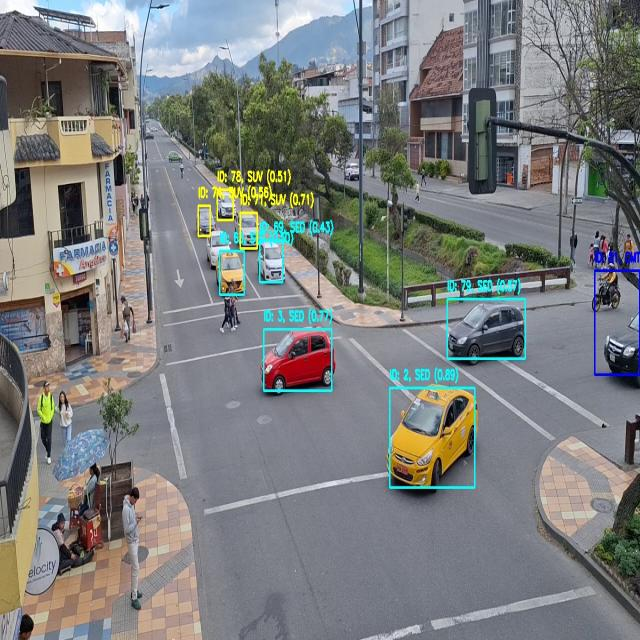MOTORCYCLE: (595, 280, 620, 310)
SED: (394, 393, 470, 481), (450, 304, 522, 356), (265, 333, 330, 389), (216, 252, 244, 294), (260, 242, 286, 284)
SUV: (216, 193, 233, 219)
